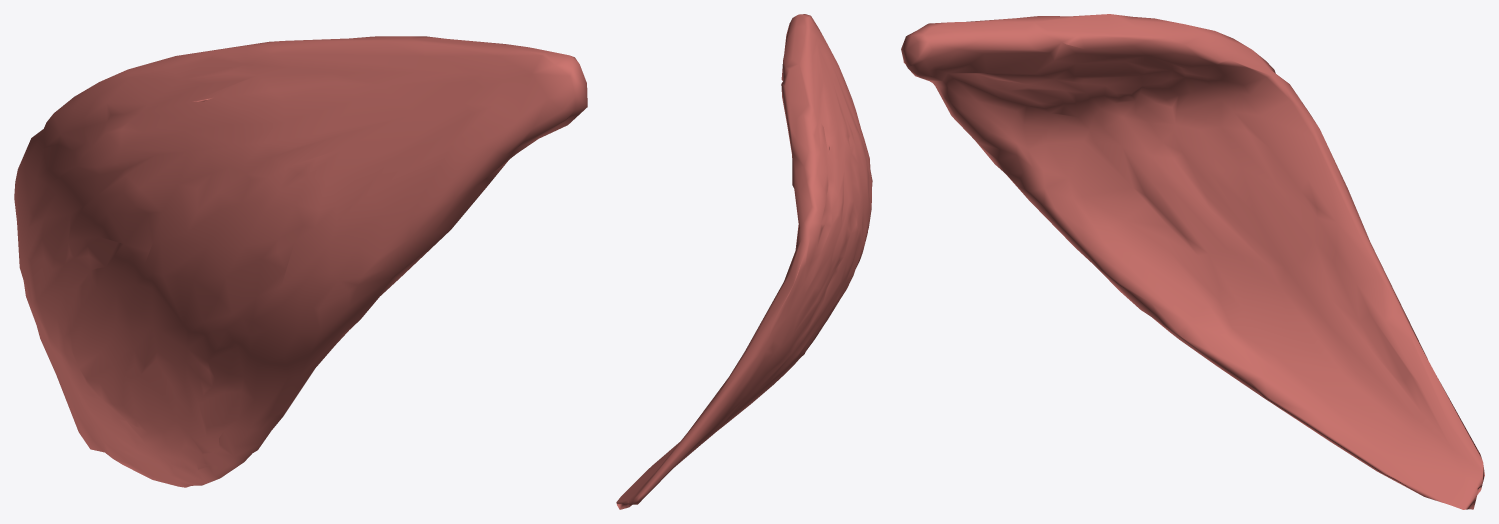
3 renders of one model, left to right at view 1: azimuth 30°, elevation 25°; view 2: azimuth 150°, elevation 25°; view 3: azimuth 270°, elevation 25°, orthographic. The views are drawn at different scales.
Parts seen in each view (by area): view 1: 右侧环杓侧肌; view 2: 右侧环杓侧肌; view 3: 右侧环杓侧肌.
Boxes of the visible parts, x1,y1,x2,y2 form: 右侧环杓侧肌: [14, 36, 587, 487]; 右侧环杓侧肌: [616, 14, 872, 509]; 右侧环杓侧肌: [901, 14, 1484, 509].
Bounding box in the file's own units: 0.00655 × 0.0147 × 0.0158.
